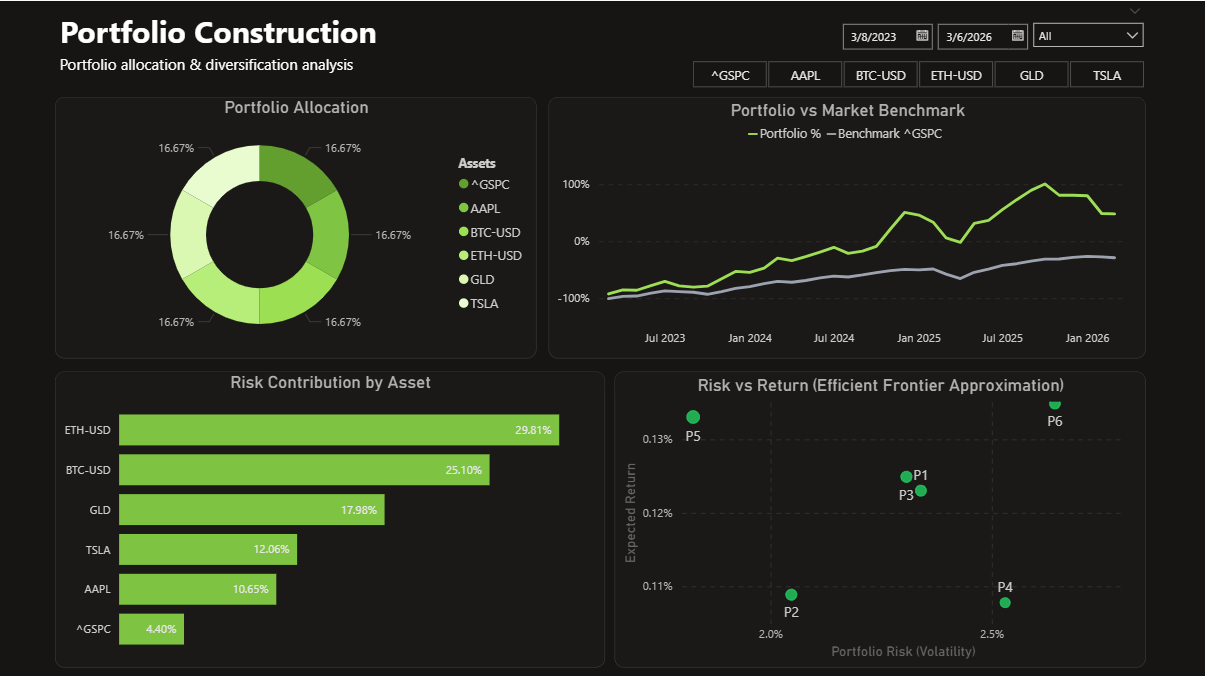

The dashboard page shown, as its layout file describes it:
{"tool":"powerbi","page":{"name":"Portfolio Construction","canvas":[1280,720],"ordinal":2},"visuals":[{"type":"textbox","box":[60.4,4.8,361.1,54.1],"z":0},{"type":"textbox","box":[60.4,50.9,349.9,55.7],"z":1000},{"type":"lineChart","title":"Portfolio vs Market Benchmark","fields":{"Category":["Dim Date.YearMonth"],"Y":["Fact Portfolio Risk.Portfolio %","Fact Portfolio Risk.Benchmark GSPC"]},"box":[583.3,102.6,633.6,277.6],"z":2000},{"type":"barChart","title":"Risk Contribution by Asset","fields":{"Category":["Dim Asset.ticker"],"Y":["Avg(Fact Asset Risk.volatility_30d)"]},"box":[60.3,392.3,583.3,313.8],"z":3000},{"type":"scatterChart","title":"Risk vs Return (Efficient Frontier Approximation)","fields":{"X":["Fact Asset Risk.Portfolio Risk"],"Y":["Fact Asset Risk.Portfolio Expected Return"],"Size":["Portfolio_Simulation.Portfolio Sharpe"],"Category":["Portfolio_Simulation.portfolio_id"]},"box":[653.8,392.3,563.2,313.8],"z":4000},{"type":"slicer","fields":{"Values":["Dim Date.Date"]},"box":[882.8,19.1,246.5,44.5],"z":5000},{"type":"slicer","fields":{"Values":["Dim Asset.ticker"]},"box":[711,62,528.1,36.6],"z":6000},{"type":"slicer","fields":{"Values":["Dim Asset.asset_class"]},"box":[1088.2,8,136.8,54.3],"z":7000},{"type":"donutChart","title":"Portfolio Allocation","fields":{"Category":["Dim Asset.ticker"],"Y":["Fact Portfolio Risk.Portfolio Weight"]},"box":[60.3,102.6,510.9,277.6],"z":8000}]}

Visuals, with their boxes in screenshot pixels (x1, y1, x2, y2), scaled from the page's 1280x720 canvas onto the 1205x676 screenshot:
textbox: 57/5/397/55
textbox: 57/48/386/100
"Portfolio vs Market Benchmark" lineChart: 549/96/1146/357
"Risk Contribution by Asset" barChart: 57/368/606/663
"Risk vs Return (Efficient Frontier Approximation)" scatterChart: 615/368/1146/663
slicer - Dim Date.Date: 831/18/1063/60
slicer - Dim Asset.ticker: 669/58/1166/93
slicer - Dim Asset.asset_class: 1024/8/1153/58
"Portfolio Allocation" donutChart: 57/96/538/357
